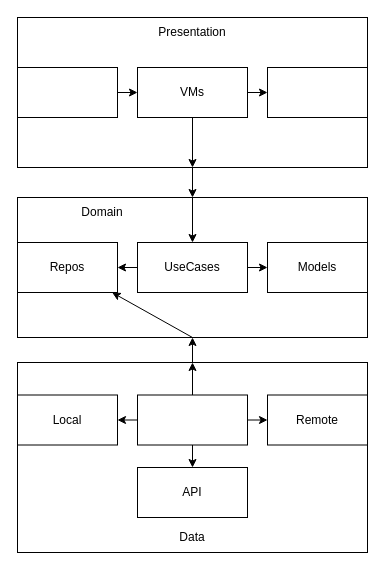
This 385x570 diagram has some shape labels left out. The shapes that lost their labels are listed below. From the top down, each one's box as (x1, y1, x2, y2) in pixels, then its label:
(16, 66, 118, 118): Screens
(266, 66, 368, 118): UiStates
(136, 394, 248, 445): ReposImpl
